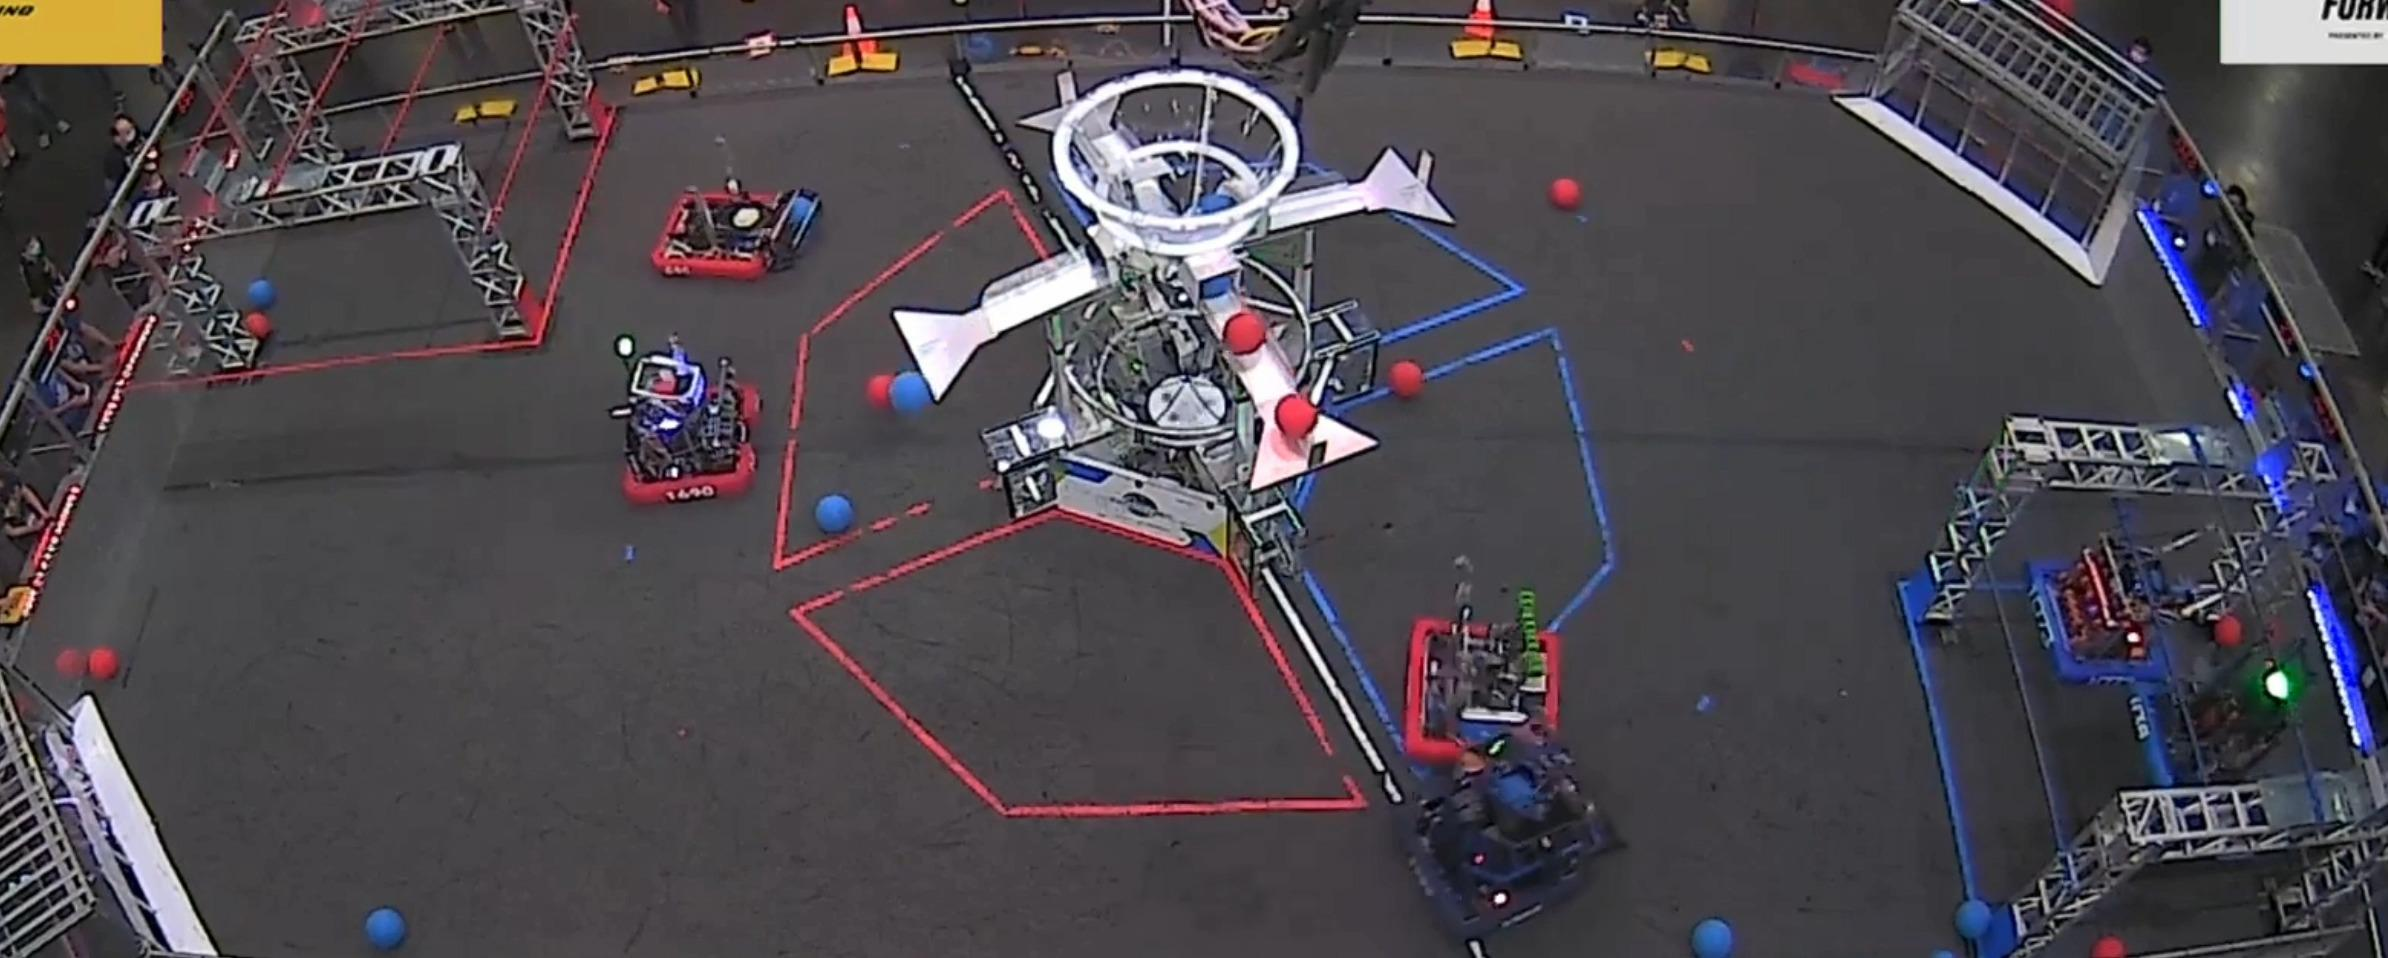Robots: (1406, 765, 1633, 946), (2022, 500, 2195, 679), (2128, 638, 2323, 786), (617, 334, 765, 500), (1403, 596, 1572, 736), (652, 180, 822, 279)
